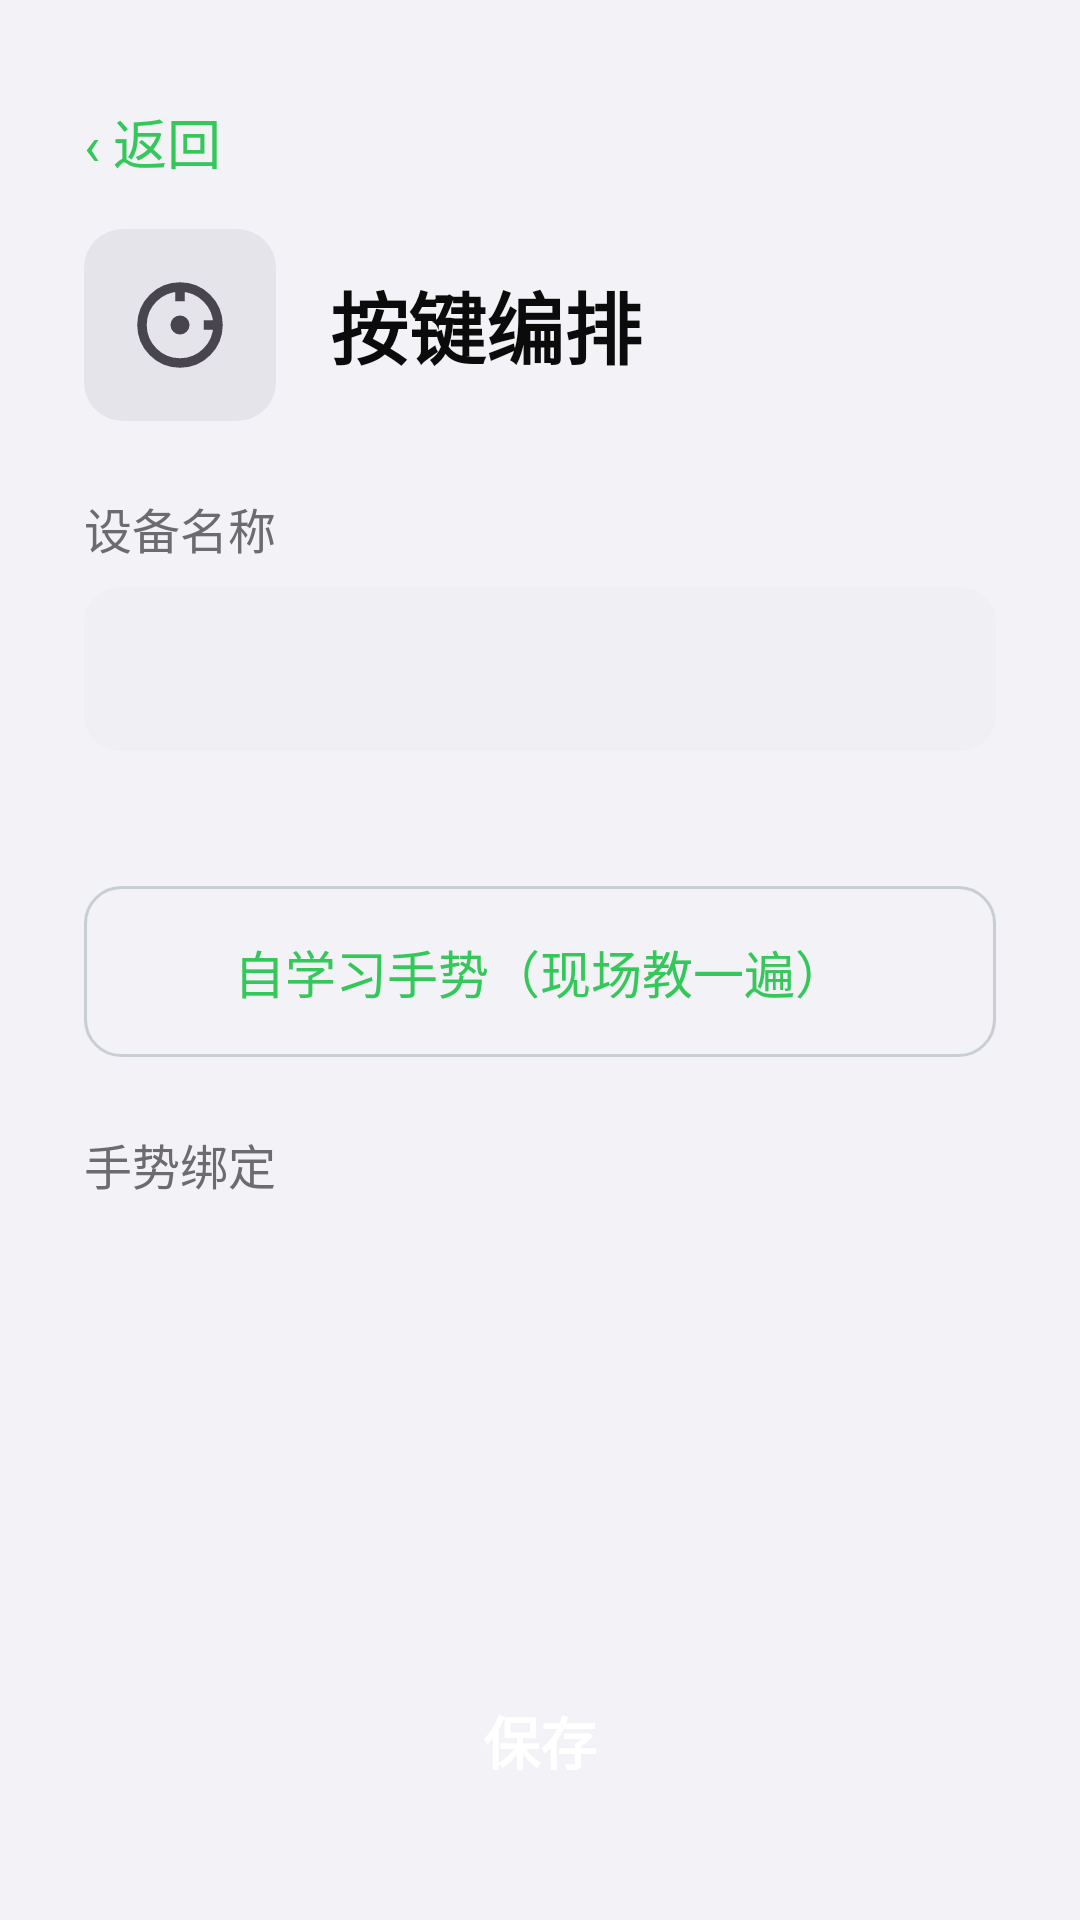

Screen size 1080 × 1920. Icon name, then its center in pixels as point (x, y):
knob: point (180, 325)
